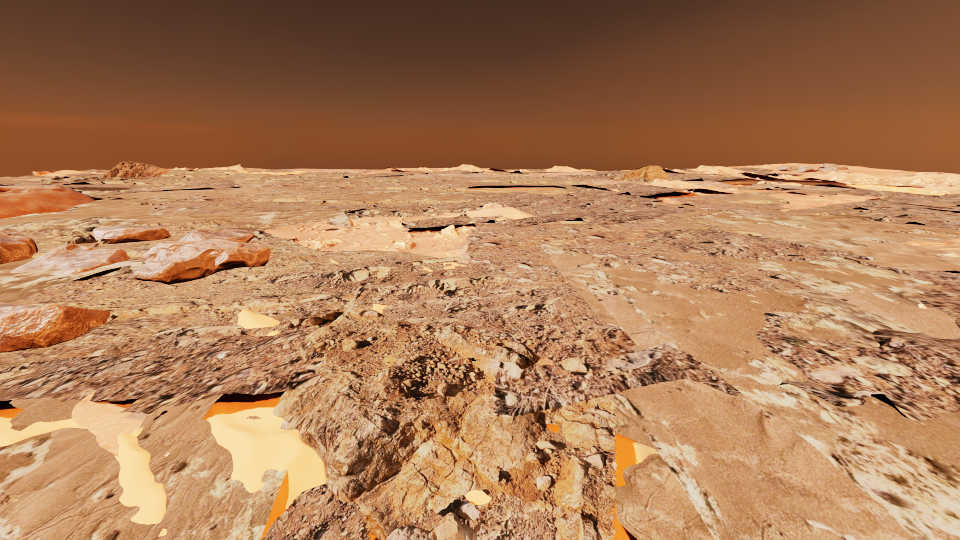bedrock: (0, 256, 740, 539), (621, 227, 959, 328), (246, 171, 696, 227), (754, 312, 959, 424), (719, 182, 959, 229), (10, 174, 242, 199), (689, 267, 817, 293), (66, 230, 153, 256), (285, 170, 536, 178), (249, 242, 320, 258), (531, 234, 588, 253), (666, 172, 743, 185), (366, 186, 494, 192), (462, 179, 590, 185), (878, 228, 959, 236), (160, 169, 235, 177), (732, 167, 802, 175), (707, 198, 793, 204), (575, 261, 635, 267), (206, 175, 278, 179), (32, 247, 56, 257), (168, 230, 190, 235), (607, 289, 623, 294), (311, 184, 351, 186), (42, 181, 57, 184), (133, 201, 147, 204)
hole: (727, 182, 753, 185)
rocks: (129, 228, 270, 284), (0, 302, 109, 352), (11, 244, 129, 274), (93, 226, 170, 243), (0, 234, 37, 264), (102, 161, 167, 178), (624, 165, 670, 179), (73, 267, 120, 280), (777, 163, 847, 171)
sand: (540, 245, 959, 539), (0, 391, 325, 539), (639, 185, 959, 270), (0, 177, 463, 231), (0, 257, 143, 303), (727, 163, 832, 177), (838, 183, 947, 195), (836, 165, 921, 178), (855, 356, 913, 375), (237, 309, 293, 328), (467, 185, 575, 194), (224, 168, 326, 174), (148, 234, 186, 245), (933, 376, 959, 392), (296, 177, 373, 182), (465, 490, 491, 504), (344, 287, 359, 307), (362, 168, 410, 173), (372, 304, 386, 313), (443, 262, 464, 268), (547, 424, 558, 432), (368, 532, 377, 539), (266, 331, 279, 335), (76, 243, 92, 246), (368, 252, 373, 258)
soil: (13, 213, 752, 303), (0, 309, 210, 366), (122, 171, 619, 194), (0, 177, 150, 218), (146, 195, 428, 216), (670, 191, 858, 218), (0, 226, 111, 248), (780, 179, 930, 189), (120, 220, 259, 230), (290, 290, 351, 311), (353, 297, 406, 310), (902, 199, 959, 209), (902, 239, 959, 246), (678, 171, 733, 178), (760, 175, 824, 181), (712, 170, 757, 178), (67, 169, 109, 177), (406, 168, 453, 175), (0, 492, 21, 507), (716, 180, 760, 186), (530, 210, 576, 215), (261, 169, 334, 172), (227, 193, 296, 196), (785, 189, 824, 194), (278, 285, 312, 289), (670, 190, 702, 194), (463, 193, 495, 196), (481, 170, 513, 173), (194, 169, 237, 171), (485, 203, 500, 208), (560, 185, 589, 187), (916, 303, 927, 308), (407, 216, 432, 218), (168, 169, 192, 171), (680, 180, 702, 182)
